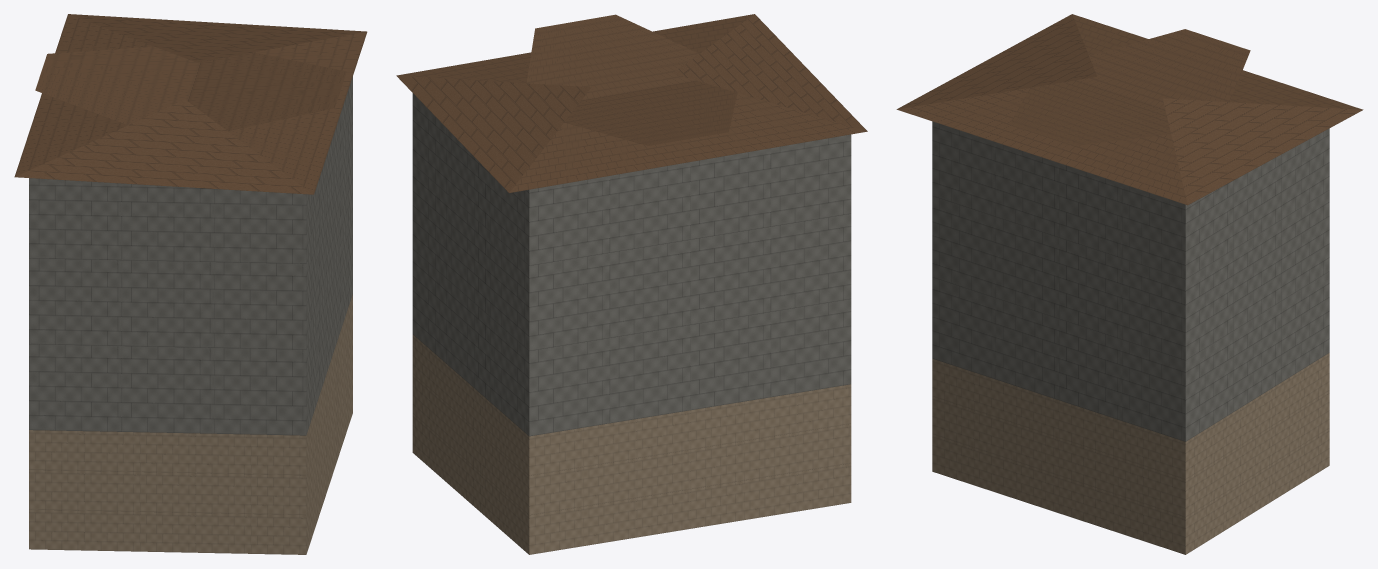
The model's file is bld_c39_33_296.gltf.
3 views of the same model, side by side, from view 1: azimuth 30°, elevation 25°; view 2: azimuth 150°, elevation 25°; view 3: azimuth 270°, elevation 25° (orthographic). The views are drawn at different scales.
Parts seen in each view (by area): view 1: bld_c39_33_296; view 2: bld_c39_33_296; view 3: bld_c39_33_296.
Boxes of the visible parts, x1,y1,x2,y2 form: bld_c39_33_296: (14,14,367,554); bld_c39_33_296: (396,14,867,554); bld_c39_33_296: (896,14,1363,554).
Bounding box in the file's own units: 18.51 × 17.1 × 19.11.
3 materials, 3 textured.
